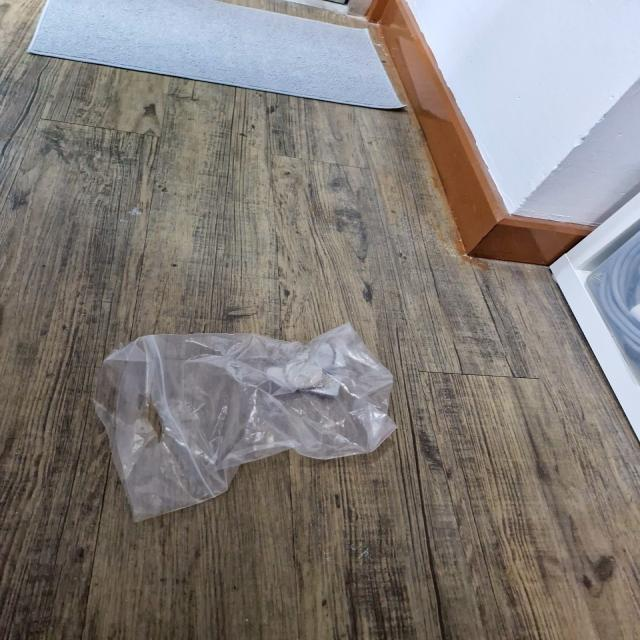plastic bag: (91, 321, 400, 521)
